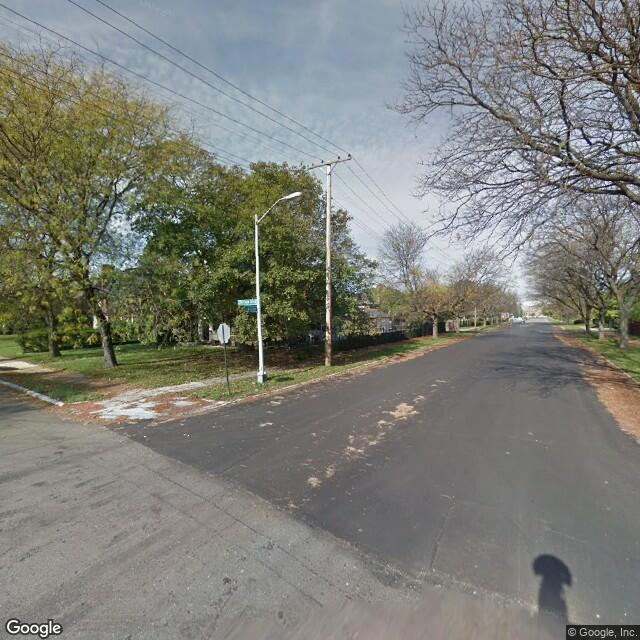litter: (251, 381, 255, 388)
